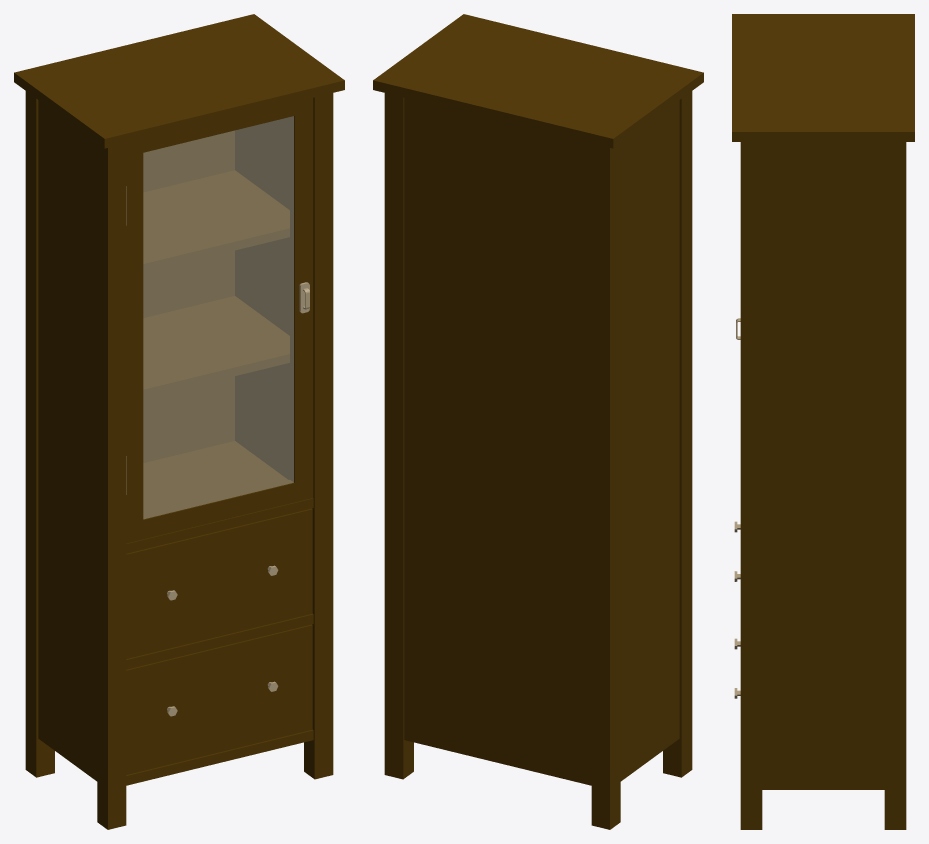
File: Showcase Unit.glb
3 views of the same model, side by side, from view 1: azimuth 30°, elevation 25°; view 2: azimuth 150°, elevation 25°; view 3: azimuth 270°, elevation 25° (orthographic).
Parts seen in each view (by area): view 1: Node; view 2: Node; view 3: Node.
Part boxes in pixels (x1=…): Node: x1=14, y1=14, x2=344, y2=829; Node: x1=373, y1=14, x2=703, y2=829; Node: x1=732, y1=14, x2=914, y2=829.
Bounding box in the file's own units: 26 × 72 × 17.
